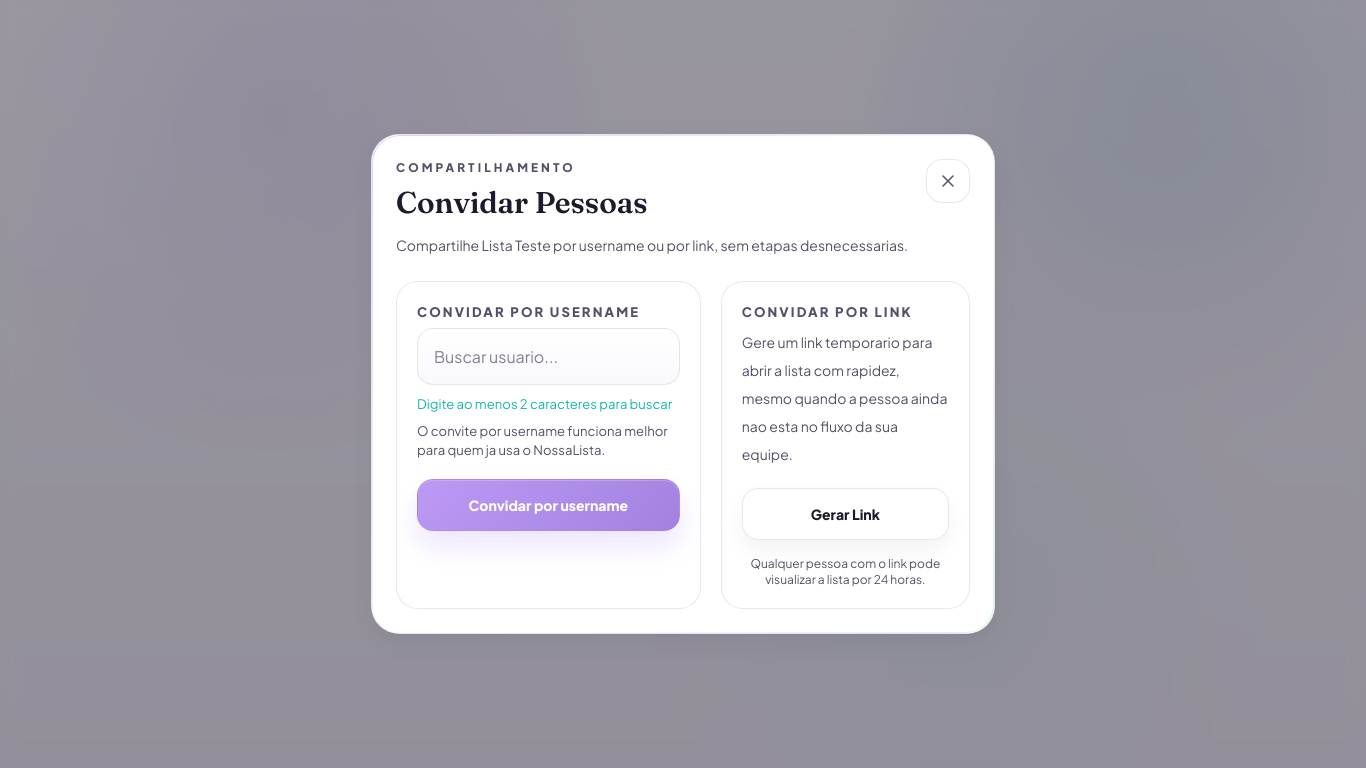
it: InviteModal - convite por username › erros 404/409 exibem feedback adequado
This screenshot has width=1366, height=768.
Type "leo" into the field with placeholder "Buscar usuario..." at (548, 357), box [417, 328, 680, 385]
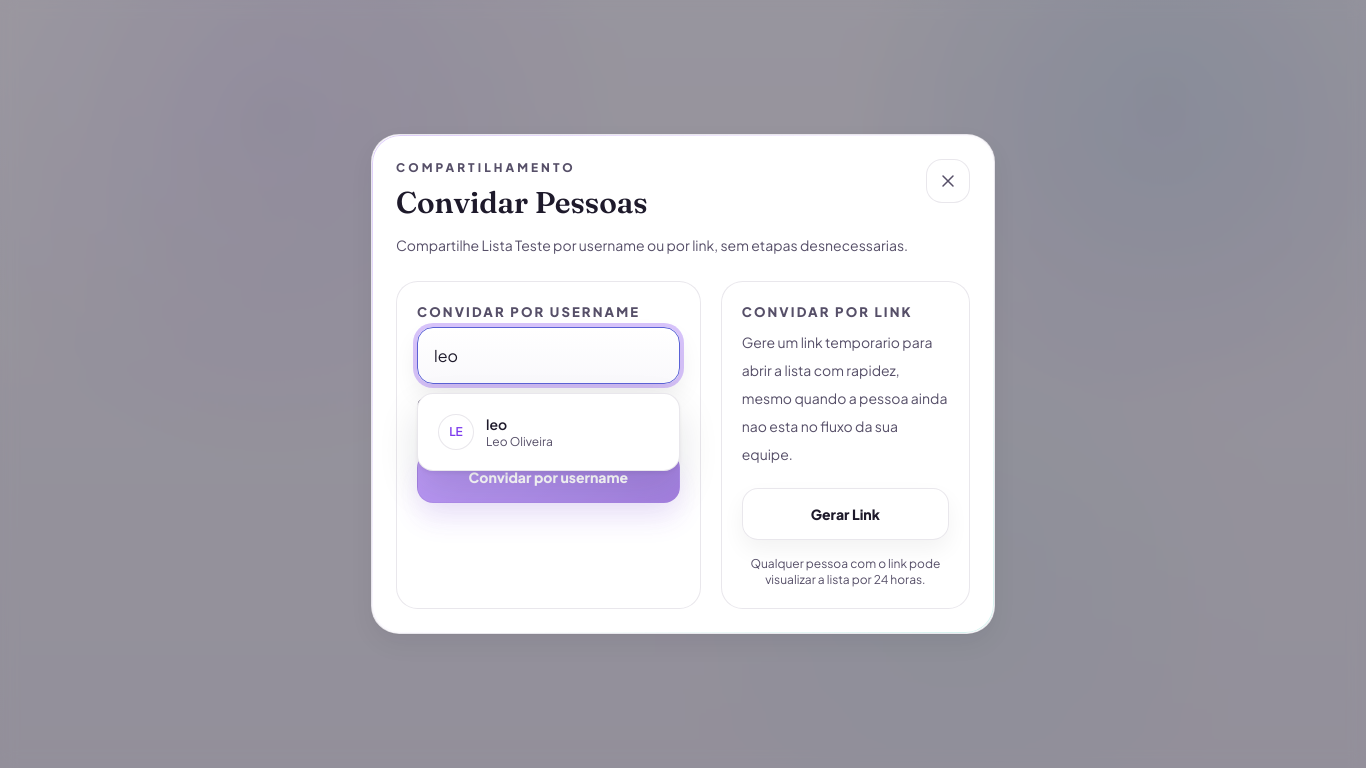
Click the button "LE leo Leo Oliveira" at (548, 432), box [426, 402, 671, 462]
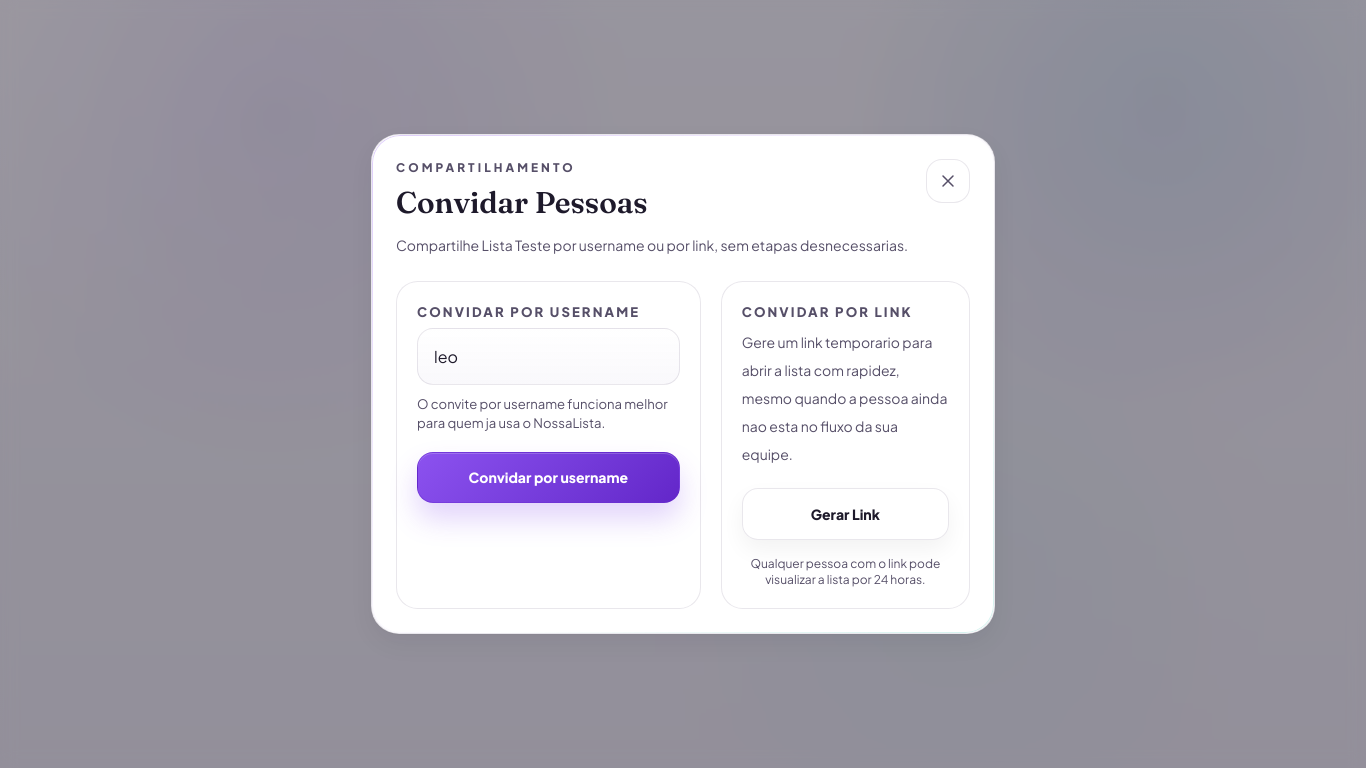
Click the button "Convidar por username" at (548, 478), box [417, 452, 680, 504]
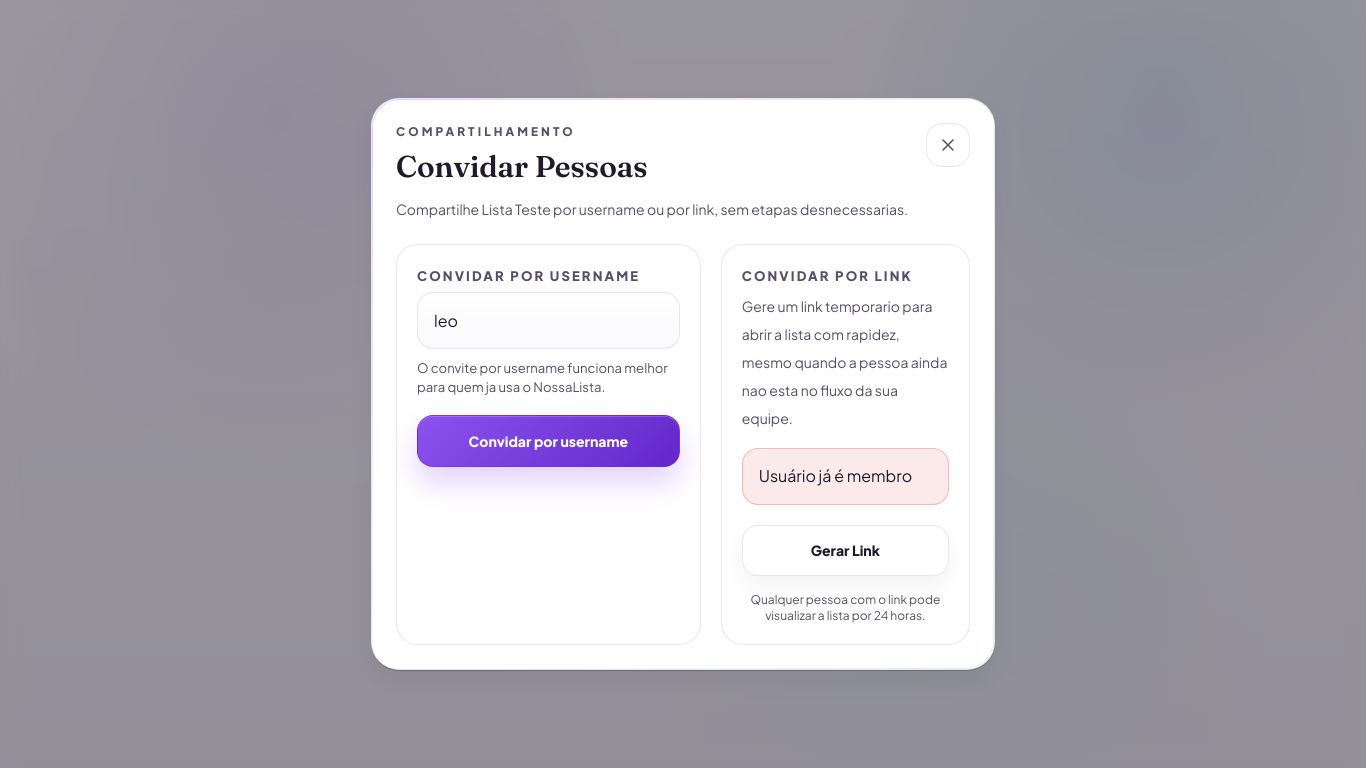
Expected: the text "Usuário já é membro" is shown, [742, 448, 949, 505]
